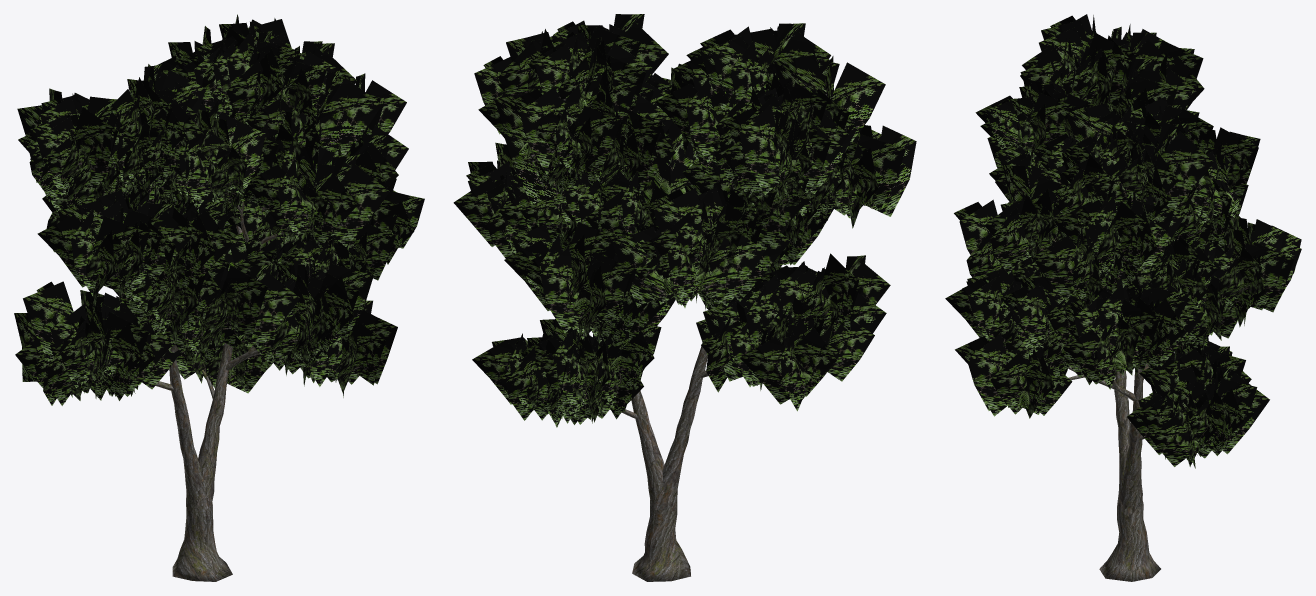
File: cay.fbx
3 views of the same model, side by side, from view 1: azimuth 30°, elevation 25°; view 2: azimuth 150°, elevation 25°; view 3: azimuth 270°, elevation 25° (orthographic). The views are drawn at different scales.
Visible parts, largest first — view 1: Plane.353_Material.001_0, tree.001_Material_0; view 2: Plane.353_Material.001_0, tree.001_Material_0; view 3: Plane.353_Material.001_0, tree.001_Material_0.
Part boxes in pixels (x1,y1,x2,y2): Plane.353_Material.001_0: [14, 14, 424, 405]; tree.001_Material_0: [36, 91, 356, 581]; Plane.353_Material.001_0: [453, 14, 916, 427]; tree.001_Material_0: [524, 100, 810, 581]; Plane.353_Material.001_0: [945, 14, 1301, 468]; tree.001_Material_0: [1020, 239, 1249, 581].
Size of the model in its own units: 1572 by 2036 by 1293.
